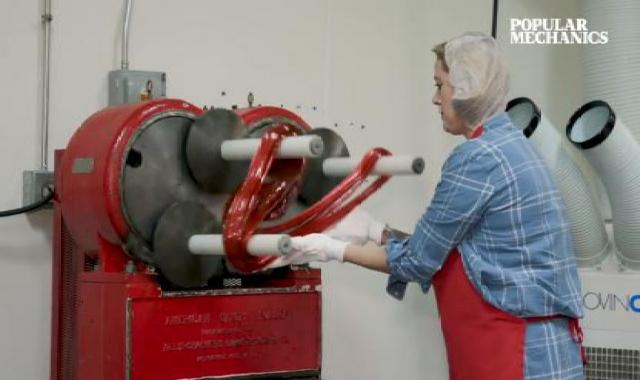hairnet: (430, 29, 517, 132)
